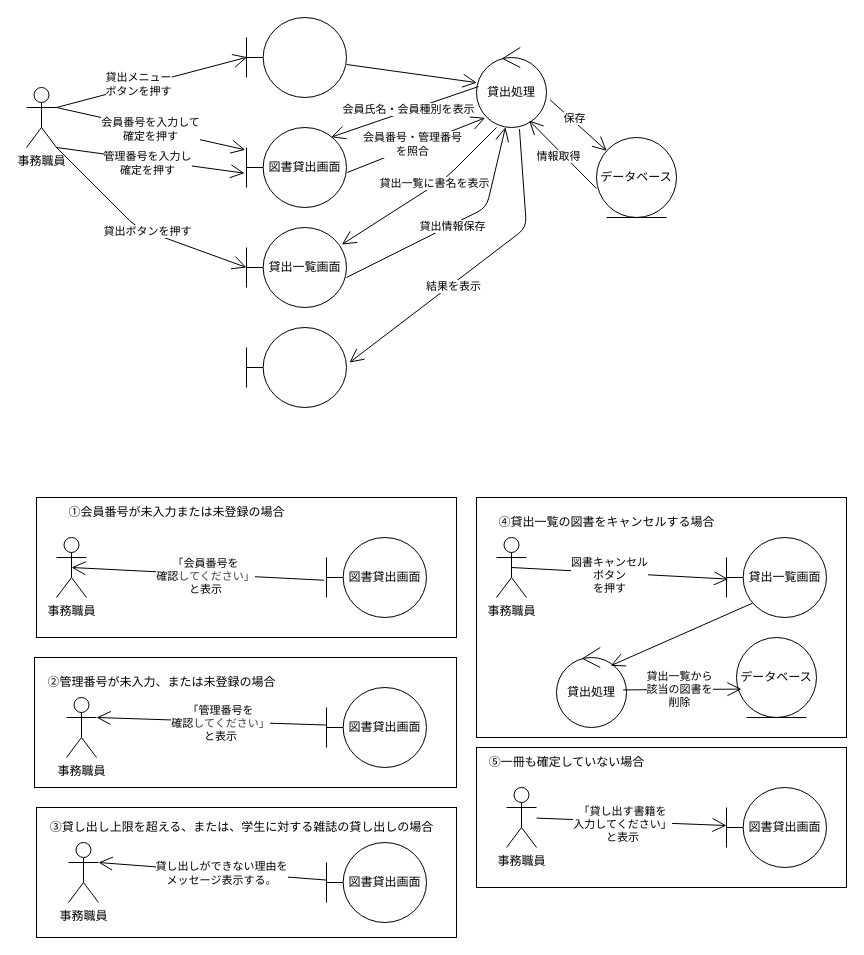
Image size: 864x955. Some labels were removed from this diagram. The shapes that lost their labels are listed below. From the top down, each one's box as (x1, y1, x2, y2) in pixels, then its label:
(246, 16, 346, 98): システム メニュー
(246, 326, 346, 408): 貸出完了画面
